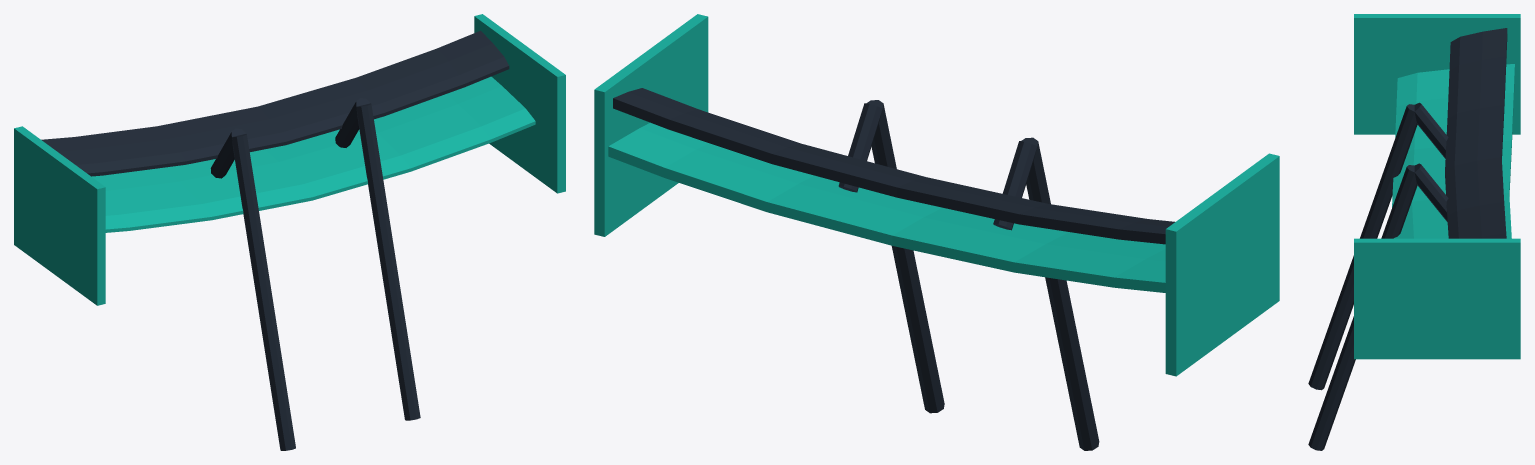
The model's file is swan.glb.
3 renders of one model, left to right at view 1: azimuth 30°, elevation 25°; view 2: azimuth 150°, elevation 25°; view 3: azimuth 270°, elevation 25°, orthographic. The views are drawn at different scales.
Parts seen in each view (by area): view 1: RearWing; view 2: RearWing; view 3: RearWing.
Boxes of the visible parts, x1,y1,x2,y2 form: RearWing: (14, 14, 565, 450); RearWing: (594, 14, 1279, 450); RearWing: (1308, 14, 1520, 450).
Size of the model in its own units: 1.43 by 0.8467 by 0.5609.
